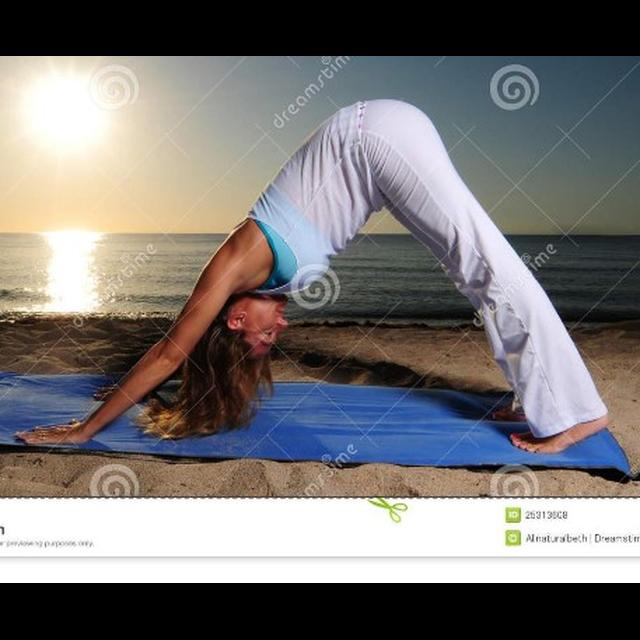Downward-Facing_Dog: (10, 94, 613, 459)
